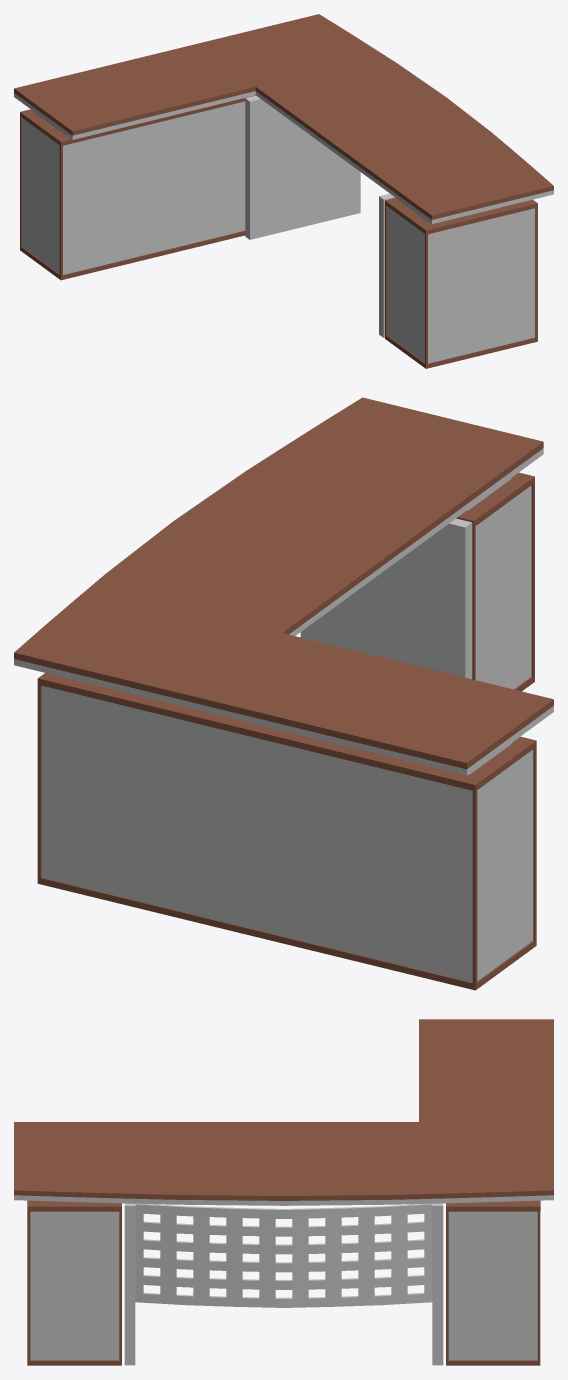
The model's file is Desk.fbx.
The picture shows the model from 3 angles, top to bottom: view 1: azimuth 30°, elevation 25°; view 2: azimuth 150°, elevation 25°; view 3: azimuth 270°, elevation 25°; orthographic projection. The views are drawn at different scales.
Visible parts, largest first — view 1: Desk; view 2: Desk; view 3: Desk.
Boxes of the visible parts, bbox=[...] form: Desk: bbox=[14, 14, 553, 368]; Desk: bbox=[14, 397, 553, 990]; Desk: bbox=[14, 1019, 553, 1365].
Size of the model in its own units: 1.55 by 0.74 by 2.
